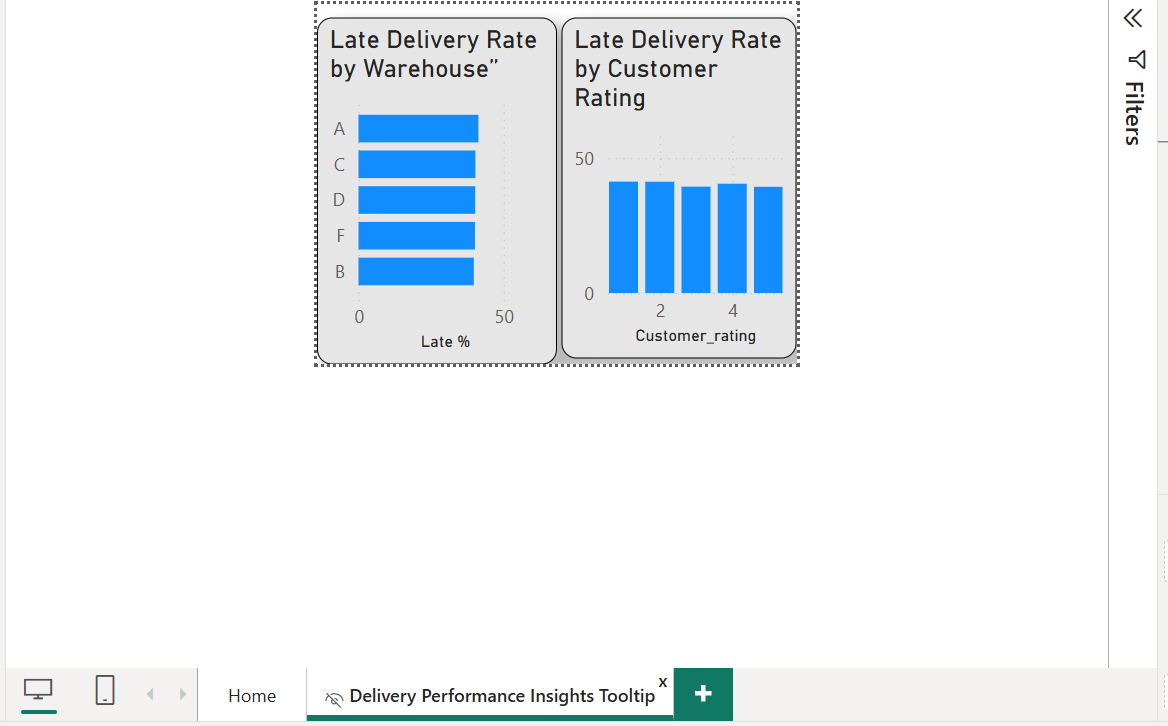

The dashboard page shown, as its layout file describes it:
{"tool":"powerbi","page":{"name":"Delivery Performance Insights Tooltip","canvas":[320,240],"ordinal":1},"visuals":[{"type":"clusteredBarChart","title":"Late Delivery Rate by Warehouse”","fields":{"Category":["in.Warehouse_block"],"Y":["in.Late %"]},"box":[0,9,160,231],"z":0},{"type":"clusteredColumnChart","title":"Late Delivery Rate by Customer Rating","fields":{"Category":["in.Customer_rating"],"Y":["in.Late %"]},"box":[163,9,157,227],"z":1000}]}

Visuals, with their boxes on the page's 320x240 design canvas (x1, y1, x2, y2). These are canvas units, not pixel positions in the 1168x726 screenshot, which may show the page scaled, cropped or inside an application window:
"Late Delivery Rate by Warehouse”" clusteredBarChart: 0,9,160,240
"Late Delivery Rate by Customer Rating" clusteredColumnChart: 163,9,320,236
